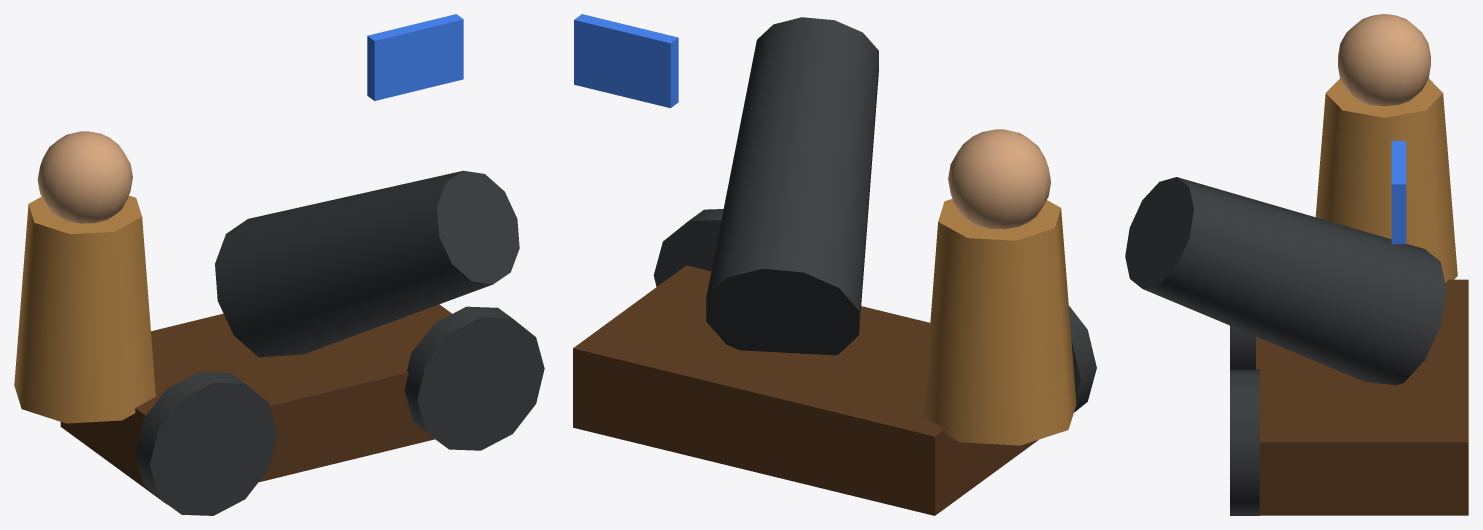
The model's file is mortar_team.glb.
3 views of the same model, side by side, from view 1: azimuth 30°, elevation 25°; view 2: azimuth 150°, elevation 25°; view 3: azimuth 270°, elevation 25° (orthographic). The views are drawn at different scales.
Visible parts, largest first — view 1: mortar-barrel, mortar-base-carriage, mortar-crew-body, mortar-left-wheel, mortar-right-wheel, mortar-crew-head, mortar-team-pennant; view 2: mortar-base-carriage, mortar-barrel, mortar-crew-body, mortar-crew-head, mortar-team-pennant, mortar-right-wheel, mortar-left-wheel; view 3: mortar-barrel, mortar-base-carriage, mortar-crew-body, mortar-crew-head, mortar-right-wheel, mortar-team-pennant, mortar-left-wheel.
Part boxes in pixels (x1,y1,x2,y2): mortar-barrel: (215,170,519,357); mortar-base-carriage: (60,304,451,504); mortar-crew-body: (14,195,155,423); mortar-left-wheel: (135,372,276,515); mortar-right-wheel: (404,306,544,450); mortar-crew-head: (37,131,132,223); mortar-team-pennant: (367,14,463,100); mortar-base-carriage: (573,265,1038,515); mortar-barrel: (706,17,878,355); mortar-crew-body: (923,199,1076,445); mortar-crew-head: (948,129,1050,229); mortar-team-pennant: (574,14,678,108); mortar-right-wheel: (653,209,723,286); mortar-left-wheel: (1068,305,1096,412); mortar-barrel: (1125,177,1446,385); mortar-base-carriage: (1256,279,1468,515); mortar-crew-body: (1315,78,1457,282); mortar-crew-head: (1338,14,1430,106); mortar-right-wheel: (1230,369,1259,515); mortar-team-pennant: (1391,141,1406,244); mortar-left-wheel: (1230,325,1255,369).
Bounding box in the file's own units: 1.4 × 1.07 × 0.936.
